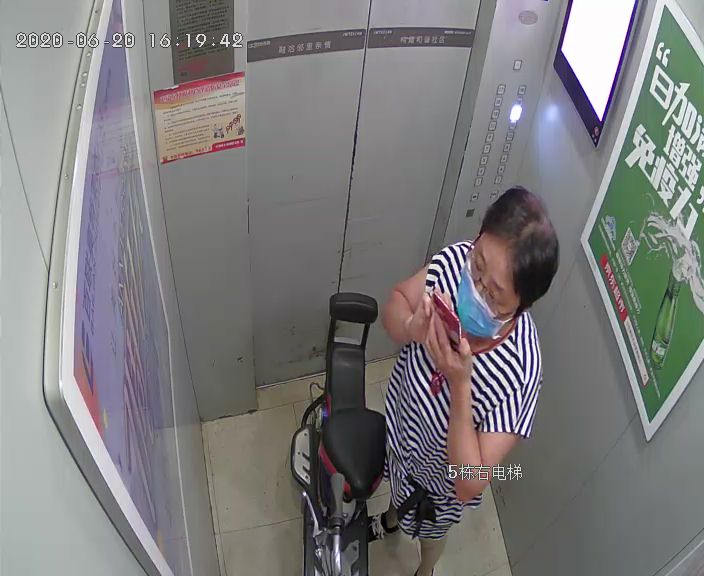Electric-bicycle: (295, 294, 399, 574)
